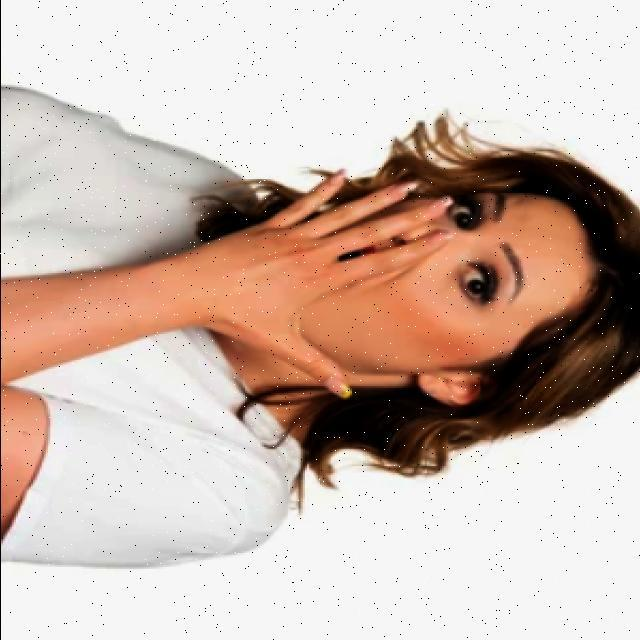face_with_hand: (291, 195, 583, 383)
